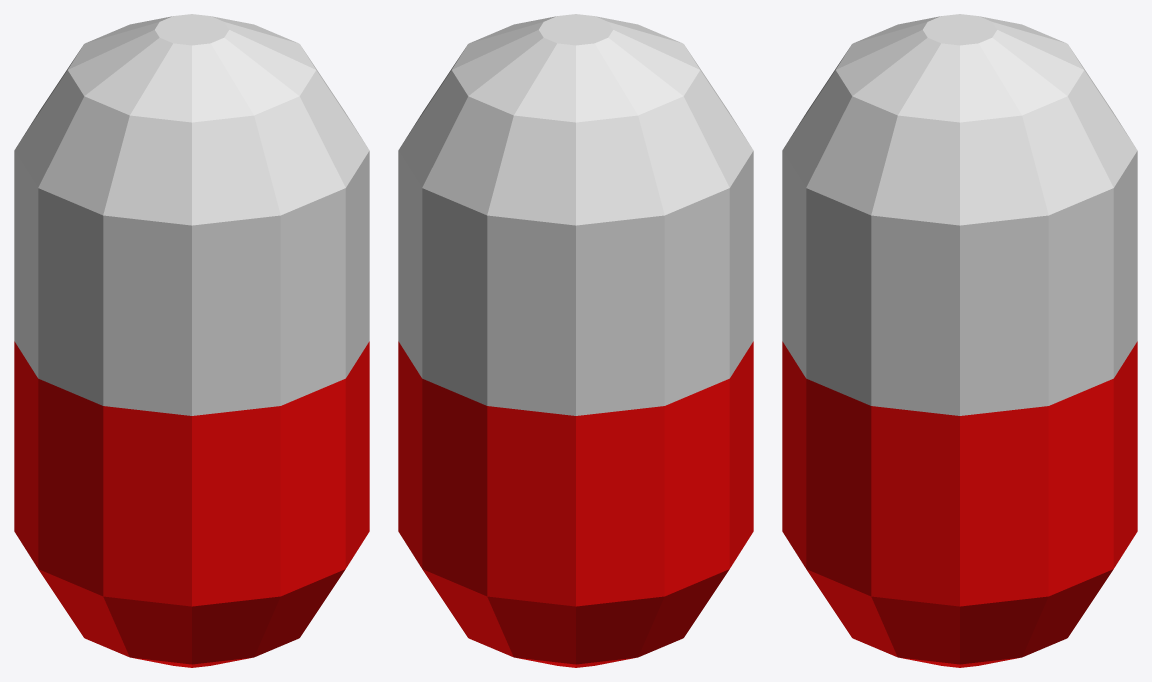
The model's file is Antibiotic.fbx.
3 renders of one model, left to right at view 1: azimuth 30°, elevation 25°; view 2: azimuth 150°, elevation 25°; view 3: azimuth 270°, elevation 25°, orthographic.
Visible parts, largest first — view 1: Antibiotic; view 2: Antibiotic; view 3: Antibiotic.
Boxes of the visible parts, x1,y1,x2,y2 form: Antibiotic: (14,14,369,667); Antibiotic: (398,14,753,667); Antibiotic: (782,14,1137,667).
Size of the model in its own units: 96 by 186 by 96.
